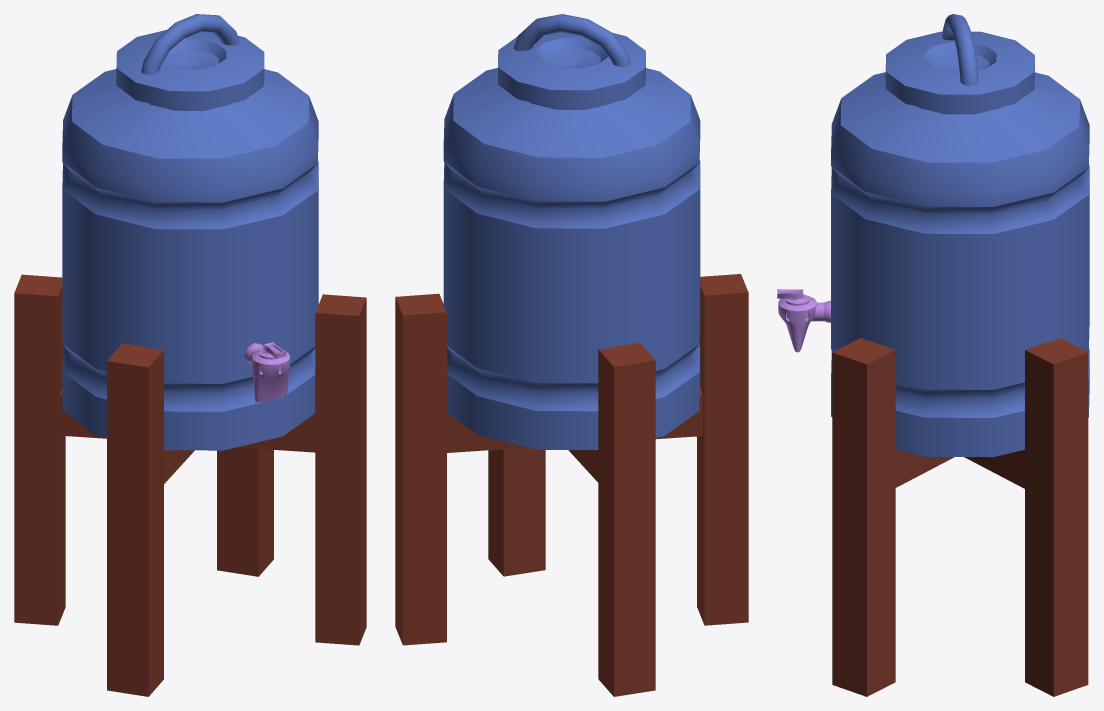
The model's file is WaterTank-Small.fbx.
3 renders of one model, left to right at view 1: azimuth 30°, elevation 25°; view 2: azimuth 150°, elevation 25°; view 3: azimuth 270°, elevation 25°, orthographic.
Parts seen in each view (by area): view 1: WaterTank-small, Tank-Frame, Cylinder; view 2: WaterTank-small, Tank-Frame; view 3: WaterTank-small, Tank-Frame, Cylinder.
Part boxes in pixels (box(x1,y1,x2,y2)): WaterTank-small: box(62, 14, 318, 450); Tank-Frame: box(14, 274, 366, 696); Cylinder: box(244, 342, 290, 402); WaterTank-small: box(443, 14, 700, 449); Tank-Frame: box(395, 274, 748, 696); WaterTank-small: box(831, 14, 1089, 457); Tank-Frame: box(832, 338, 1088, 696); Cylinder: box(777, 289, 830, 352).
Bounding box in the file's own units: 0.6585 × 1.47 × 0.6792.
